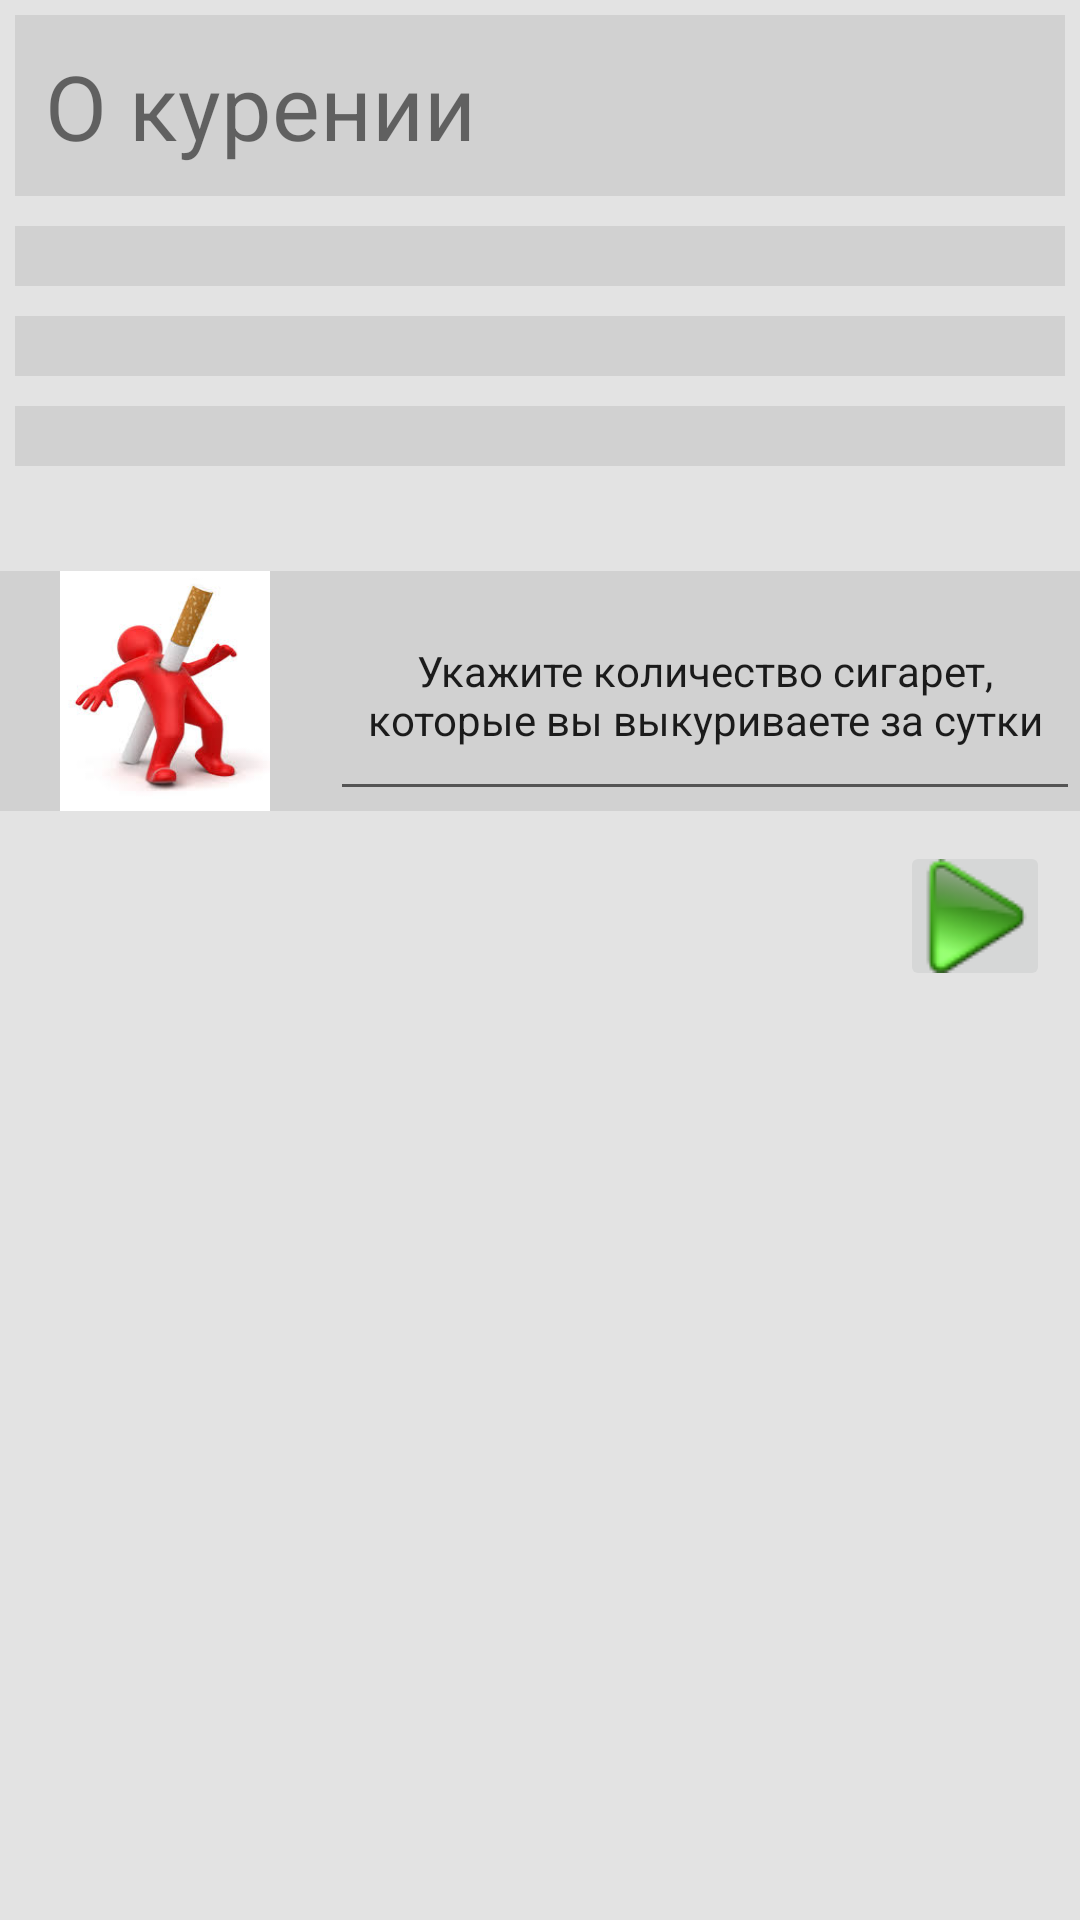

Locate icon controls on the screen. Image size 1080 x 1920, boxes as [x1=x1, y1=y1, x2=x2, y2=y2].
images: [x1=60, y1=571, x2=270, y2=811]
next: [x1=926, y1=859, x2=1026, y2=973]
